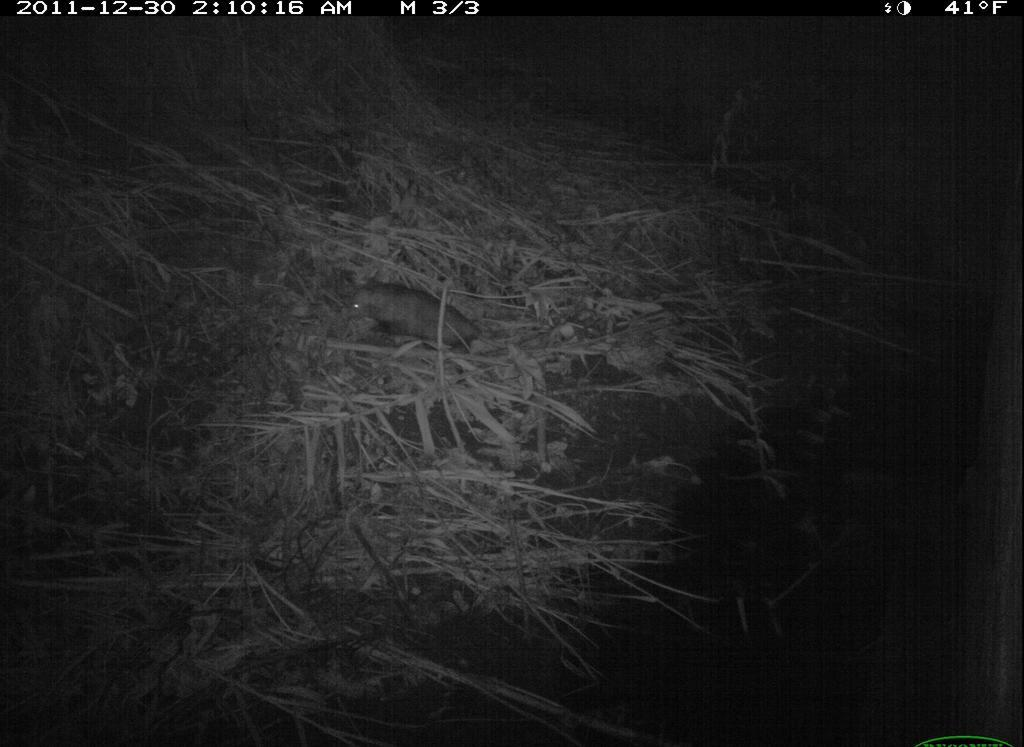opossum: (336, 268, 496, 361)
